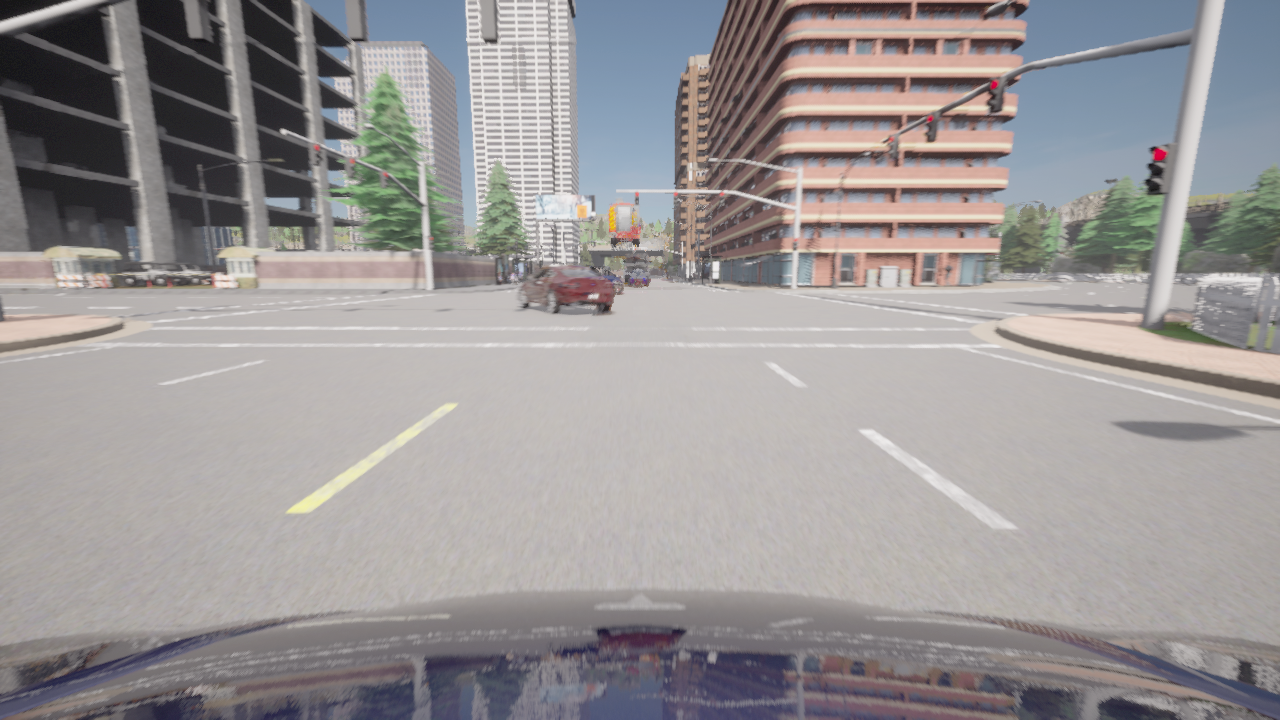cyclist: (0, 588, 1279, 719), (517, 265, 613, 314), (608, 197, 642, 247), (121, 262, 188, 286), (162, 262, 213, 285), (587, 266, 623, 293), (623, 253, 650, 283), (629, 270, 647, 285), (636, 277, 639, 286)
pedestrian: (941, 262, 954, 287), (506, 272, 510, 284), (498, 273, 502, 285), (512, 272, 516, 284)
